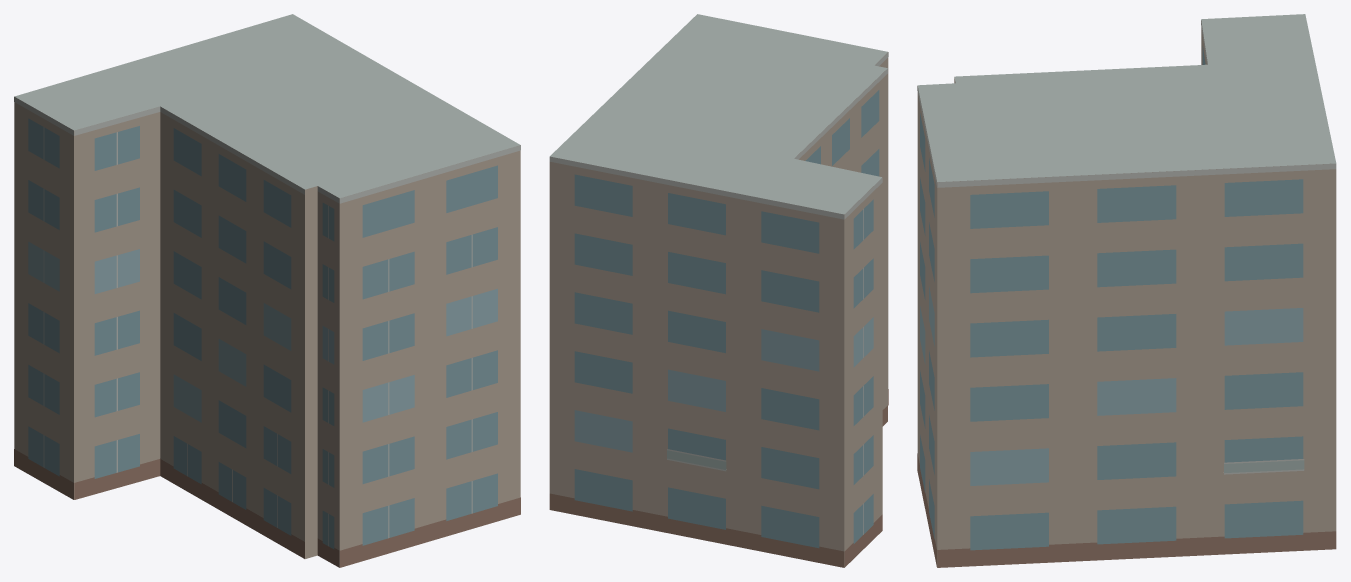
File: survey-upis-32917445.glb
3 views of the same model, side by side, from view 1: azimuth 30°, elevation 25°; view 2: azimuth 150°, elevation 25°; view 3: azimuth 270°, elevation 25° (orthographic). The views are drawn at different scales.
Visible parts, largest first — view 1: survey-upis-32917445.tmp; view 2: survey-upis-32917445.tmp; view 3: survey-upis-32917445.tmp.
Part boxes in pixels (bbox=[...]): survey-upis-32917445.tmp: bbox=[14, 14, 520, 567]; survey-upis-32917445.tmp: bbox=[549, 14, 888, 567]; survey-upis-32917445.tmp: bbox=[917, 14, 1336, 567].
Bounding box in the file's own units: 15.53 × 16.6 × 16.35.
